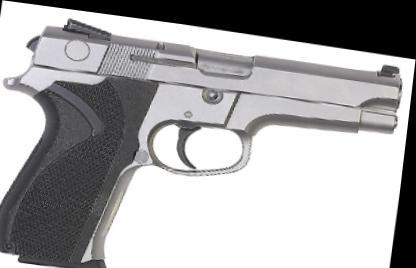pistol: (0, 2, 407, 265)
